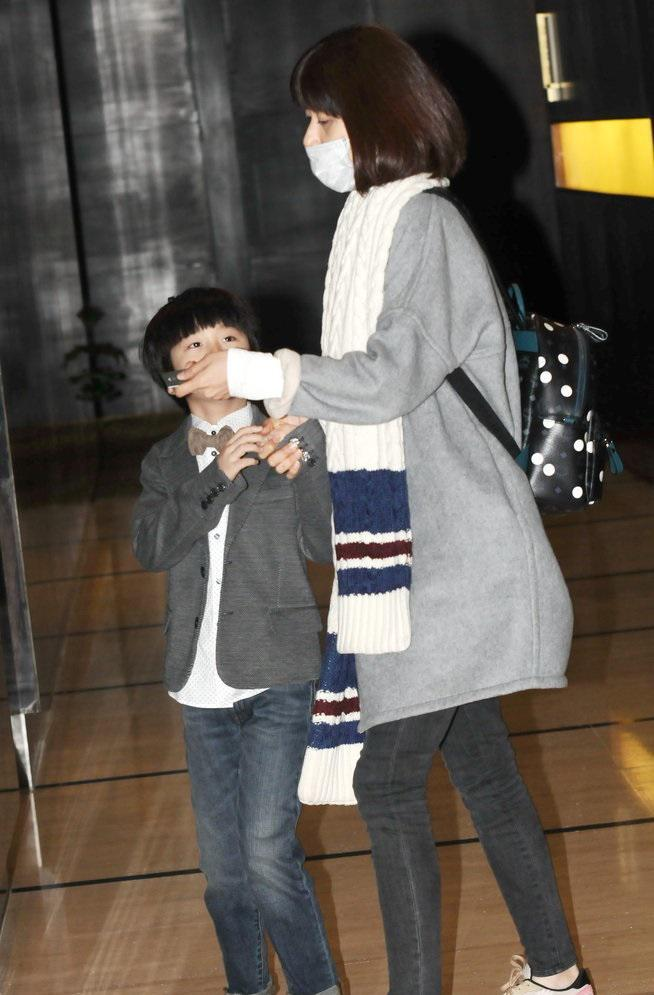NONE: (163, 318, 254, 409)
WRONG: (300, 108, 384, 192)
